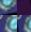mirror: (0, 15, 17, 32), (0, 0, 17, 15), (17, 15, 31, 32)
